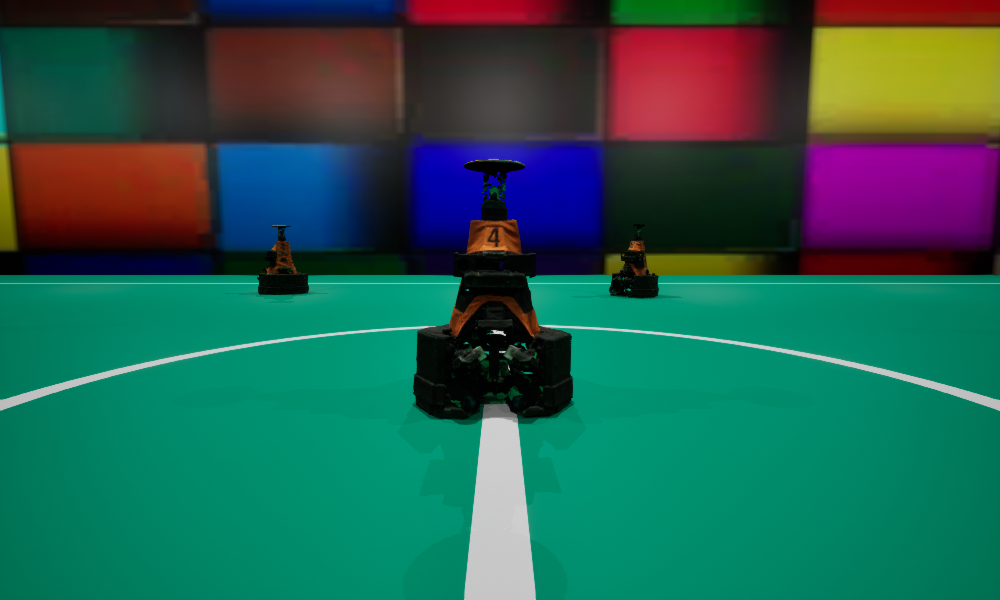o: (413, 159, 572, 418), (609, 224, 658, 297), (257, 225, 308, 294)
